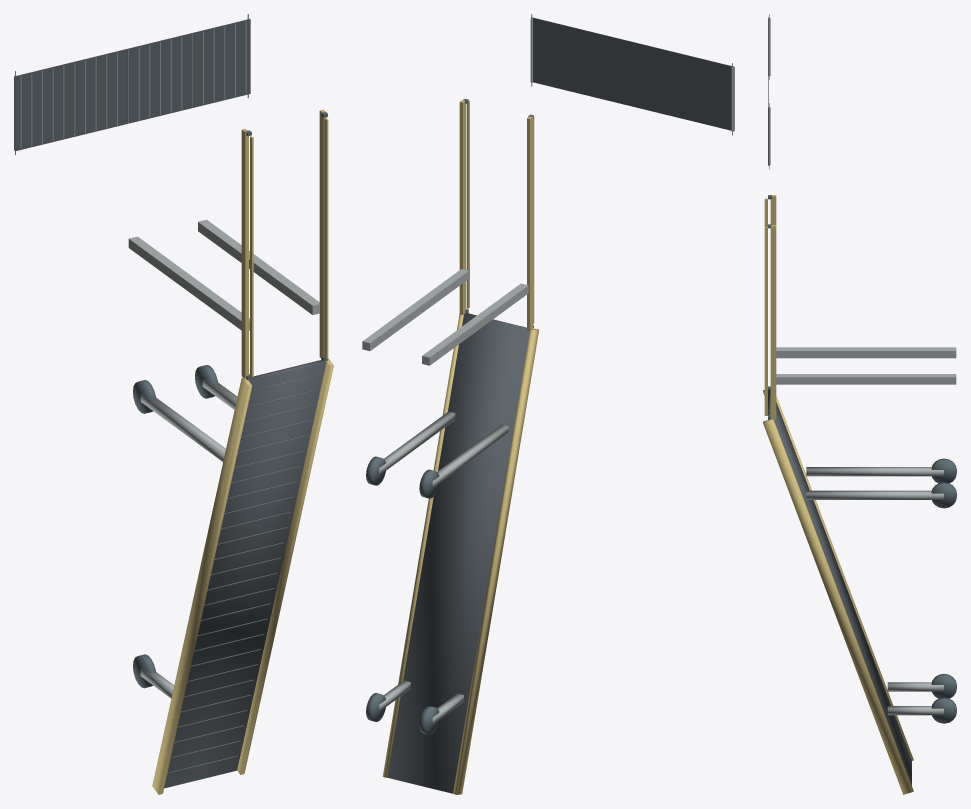
The model's file is Resolved_Transfer_Assembly.glb.
The picture shows the model from 3 angles, left to right: view 1: azimuth 30°, elevation 25°; view 2: azimuth 150°, elevation 25°; view 3: azimuth 270°, elevation 25°; orthographic projection. The views are drawn at different scales.
Parts seen in each view (by area): view 1: loader_belt, door_door_belt_contact_contact, loader_edge_r, loader_edge_l, door_door_belt_frame_ground_leg1, door_door_belt_frame_ground_leg-1, door_door_belt_frame_frame1, door_door_belt_frame_frame-1, loader_leg_1.04_-3.4000000000000004, door_door_belt_frame_guide-1, door_door_belt_frame_guide1; view 2: loader_belt, door_door_belt_contact_contact, loader_edge_r, loader_edge_l, door_door_belt_frame_ground_leg1, door_door_belt_frame_ground_leg-1, door_door_belt_frame_frame1, door_door_belt_frame_frame-1, loader_leg_1.56_-3.4000000000000004, loader_leg_1.04_-3.4000000000000004, door_door_belt_frame_guide-1; view 3: loader_edge_l, loader_belt, door_door_belt_frame_ground_leg1, door_door_belt_frame_ground_leg-1, door_door_belt_frame_frame-1, loader_leg_1.04_-3.4000000000000004, loader_leg_1.56_-3.4000000000000004, loader_edge_r, door_door_belt_frame_guide-1, loader_leg_1.56_-5.6000000000000005, loader_leg_1.04_-5.6000000000000005, loader_wheel_1.56_-3.4000000000000004 (+3 smaller).
Boxes of the visible parts, x1,y1,x2,y2 form: loader_belt: [164, 360, 326, 788]; door_door_belt_contact_contact: [14, 19, 250, 151]; loader_edge_r: [152, 377, 252, 794]; loader_edge_l: [237, 358, 333, 774]; door_door_belt_frame_ground_leg1: [128, 236, 249, 330]; door_door_belt_frame_ground_leg-1: [198, 219, 319, 314]; door_door_belt_frame_frame1: [241, 129, 248, 378]; door_door_belt_frame_frame-1: [319, 109, 326, 357]; loader_leg_1.04_-3.4000000000000004: [140, 394, 225, 461]; door_door_belt_frame_guide-1: [324, 118, 328, 359]; door_door_belt_frame_guide1: [250, 136, 253, 377]; loader_belt: [387, 313, 529, 793]; door_door_belt_contact_contact: [531, 17, 734, 131]; loader_edge_r: [453, 328, 538, 794]; loader_edge_l: [382, 312, 468, 777]; door_door_belt_frame_ground_leg1: [422, 283, 528, 365]; door_door_belt_frame_ground_leg-1: [362, 269, 468, 350]; door_door_belt_frame_frame1: [527, 116, 533, 331]; door_door_belt_frame_frame-1: [459, 100, 465, 314]; loader_leg_1.56_-3.4000000000000004: [379, 411, 455, 475]; loader_leg_1.04_-3.4000000000000004: [432, 424, 508, 487]; door_door_belt_frame_guide-1: [466, 101, 469, 308]; loader_edge_l: [763, 419, 913, 794]; loader_belt: [768, 390, 911, 785]; door_door_belt_frame_ground_leg1: [776, 347, 956, 358]; door_door_belt_frame_ground_leg-1: [776, 374, 956, 384]; door_door_belt_frame_frame-1: [770, 225, 776, 419]; loader_leg_1.04_-3.4000000000000004: [806, 467, 943, 476]; loader_leg_1.56_-3.4000000000000004: [806, 490, 943, 499]; loader_edge_r: [763, 390, 913, 760]; door_door_belt_frame_guide-1: [764, 227, 767, 415]; loader_leg_1.56_-5.6000000000000005: [887, 706, 943, 715]; loader_leg_1.04_-5.6000000000000005: [887, 682, 943, 691]; loader_wheel_1.56_-3.4000000000000004: [931, 482, 956, 508].
Size of the model in its own units: 2.65 by 6.75 by 1.8.
